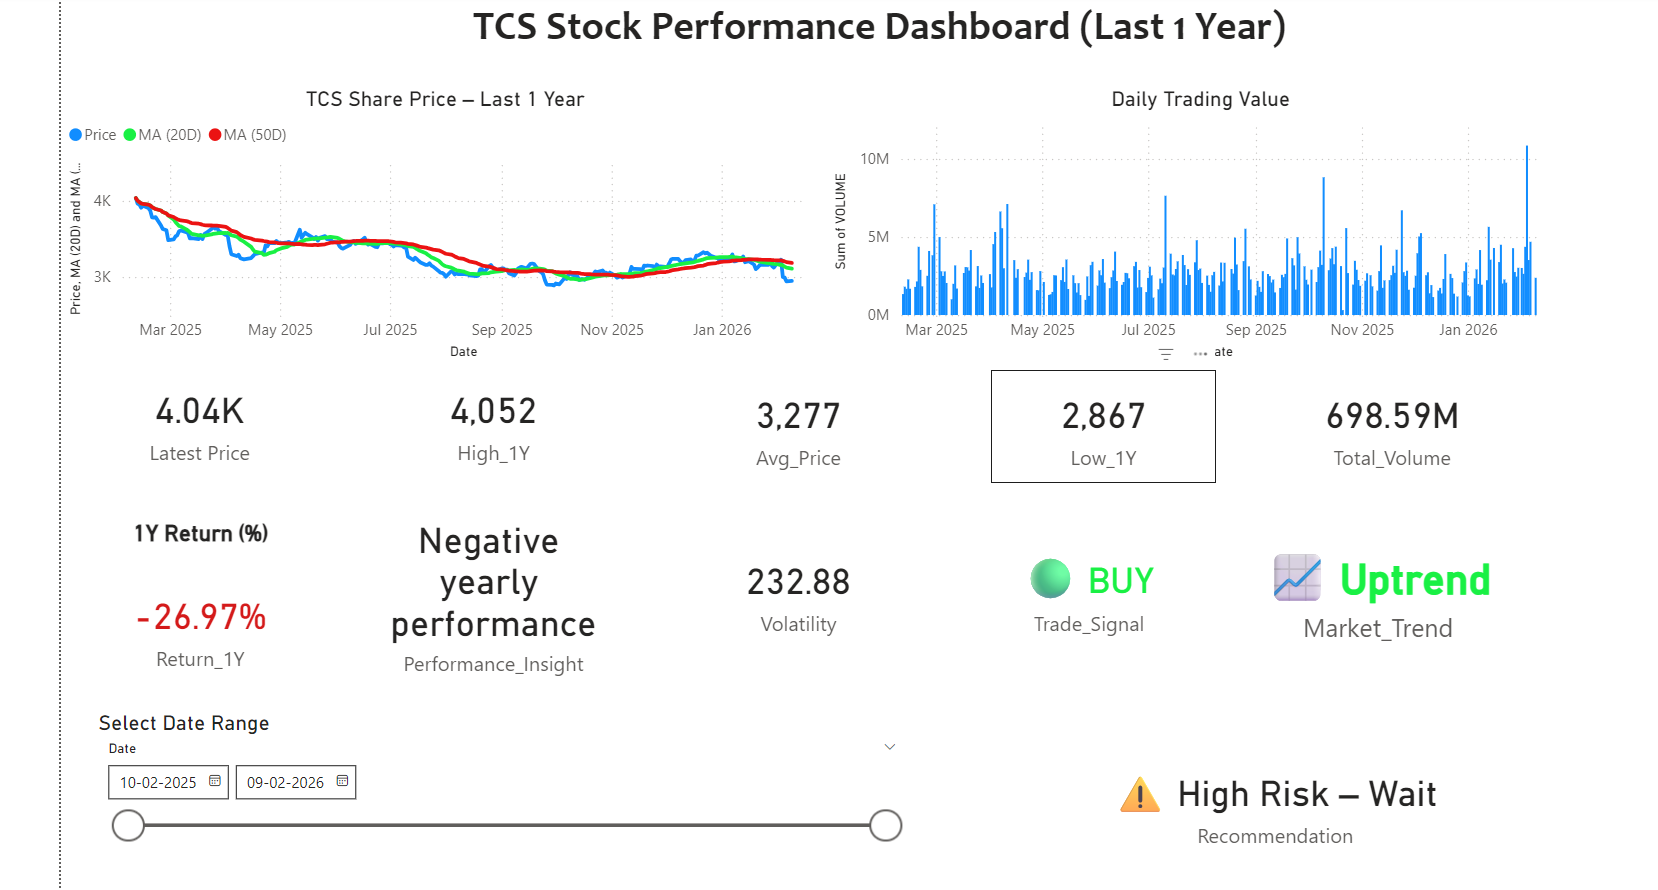

What the dashboard file says about the page in this screenshot:
{"tool":"powerbi","page":{"name":"Page 1","canvas":[1280,720],"ordinal":0},"visuals":[{"type":"lineChart","title":"TCS Share Price – Last 1 Year","fields":{"Category":["stock_tcs.Date"],"Y":["Avg(stock_tcs.CLOSE)","stock_tcs.MA_20","stock_tcs.MA_50"]},"box":[1.4,72.7,610.6,222.3],"z":0},{"type":"clusteredColumnChart","title":"Daily Trading Value","fields":{"Category":["stock_tcs.Date"],"Y":["Sum(stock_tcs.VOLUME)"]},"box":[610.6,72.7,595.5,222.3],"z":1000},{"type":"card","fields":{"Values":["stock_tcs.Latest Price"]},"box":[20.6,295,179.8,90.6],"z":2000},{"type":"card","fields":{"Values":["stock_tcs.High_1Y"]},"box":[255.2,295,179.8,90.6],"z":3000},{"type":"card","fields":{"Values":["stock_tcs.Low_1Y"]},"box":[741,299.1,179.8,90.6],"z":4000},{"type":"card","fields":{"Values":["stock_tcs.Avg_Price"]},"box":[498.1,299.1,179.8,90.6],"z":5000},{"type":"card","fields":{"Values":["stock_tcs.Total_Volume"]},"box":[971.5,299.1,179.8,90.6],"z":6000},{"type":"textbox","box":[59,0,1187,72.7],"z":8000},{"type":"card","title":"1Y Return (%)","fields":{"Values":["stock_tcs.Return_1Y"]},"box":[0,418.5,222.3,150.9],"z":9000},{"type":"card","fields":{"Values":["stock_tcs.Trend_Status"]},"box":[948.2,400.7,203.1,150.9],"z":9001},{"type":"card","fields":{"Values":["stock_tcs.Trade_Signal"]},"box":[706.7,400.7,226.4,150.9],"z":9002},{"type":"card","fields":{"Values":["stock_tcs.Performance_Insight"]},"box":[255.2,400.7,179.8,150.9],"z":9003},{"type":"card","fields":{"Values":["stock_tcs.Volatility"]},"box":[498.1,421.3,179.8,109.8],"z":9004},{"type":"card","fields":{"Values":["stock_tcs.Recommendation"]},"box":[688.9,569.5,557.1,150.9],"z":9005},{"type":"slicer","title":"Select Date Range","fields":{"Values":["stock_tcs.Date"]},"box":[24.7,569.5,653.2,150.9],"z":9006}]}

Visuals, with their boxes on the page's 1280x720 design canvas (x1, y1, x2, y2). These are canvas units, not pixel positions in the 1658x890 screenshot, which may show the page scaled, cropped or inside an application window:
"TCS Share Price – Last 1 Year" lineChart: (x1=1, y1=73, x2=612, y2=295)
"Daily Trading Value" clusteredColumnChart: (x1=611, y1=73, x2=1206, y2=295)
card - stock_tcs.Latest Price: (x1=21, y1=295, x2=200, y2=386)
card - stock_tcs.High_1Y: (x1=255, y1=295, x2=435, y2=386)
card - stock_tcs.Low_1Y: (x1=741, y1=299, x2=921, y2=390)
card - stock_tcs.Avg_Price: (x1=498, y1=299, x2=678, y2=390)
card - stock_tcs.Total_Volume: (x1=972, y1=299, x2=1151, y2=390)
textbox: (x1=59, y1=0, x2=1246, y2=73)
"1Y Return (%)" card: (x1=0, y1=418, x2=222, y2=569)
card - stock_tcs.Trend_Status: (x1=948, y1=401, x2=1151, y2=552)
card - stock_tcs.Trade_Signal: (x1=707, y1=401, x2=933, y2=552)
card - stock_tcs.Performance_Insight: (x1=255, y1=401, x2=435, y2=552)
card - stock_tcs.Volatility: (x1=498, y1=421, x2=678, y2=531)
card - stock_tcs.Recommendation: (x1=689, y1=570, x2=1246, y2=720)
"Select Date Range" slicer: (x1=25, y1=570, x2=678, y2=720)
